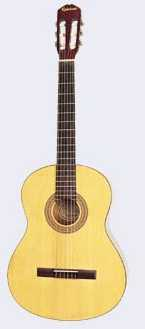guitar: (6, 3, 128, 322)
